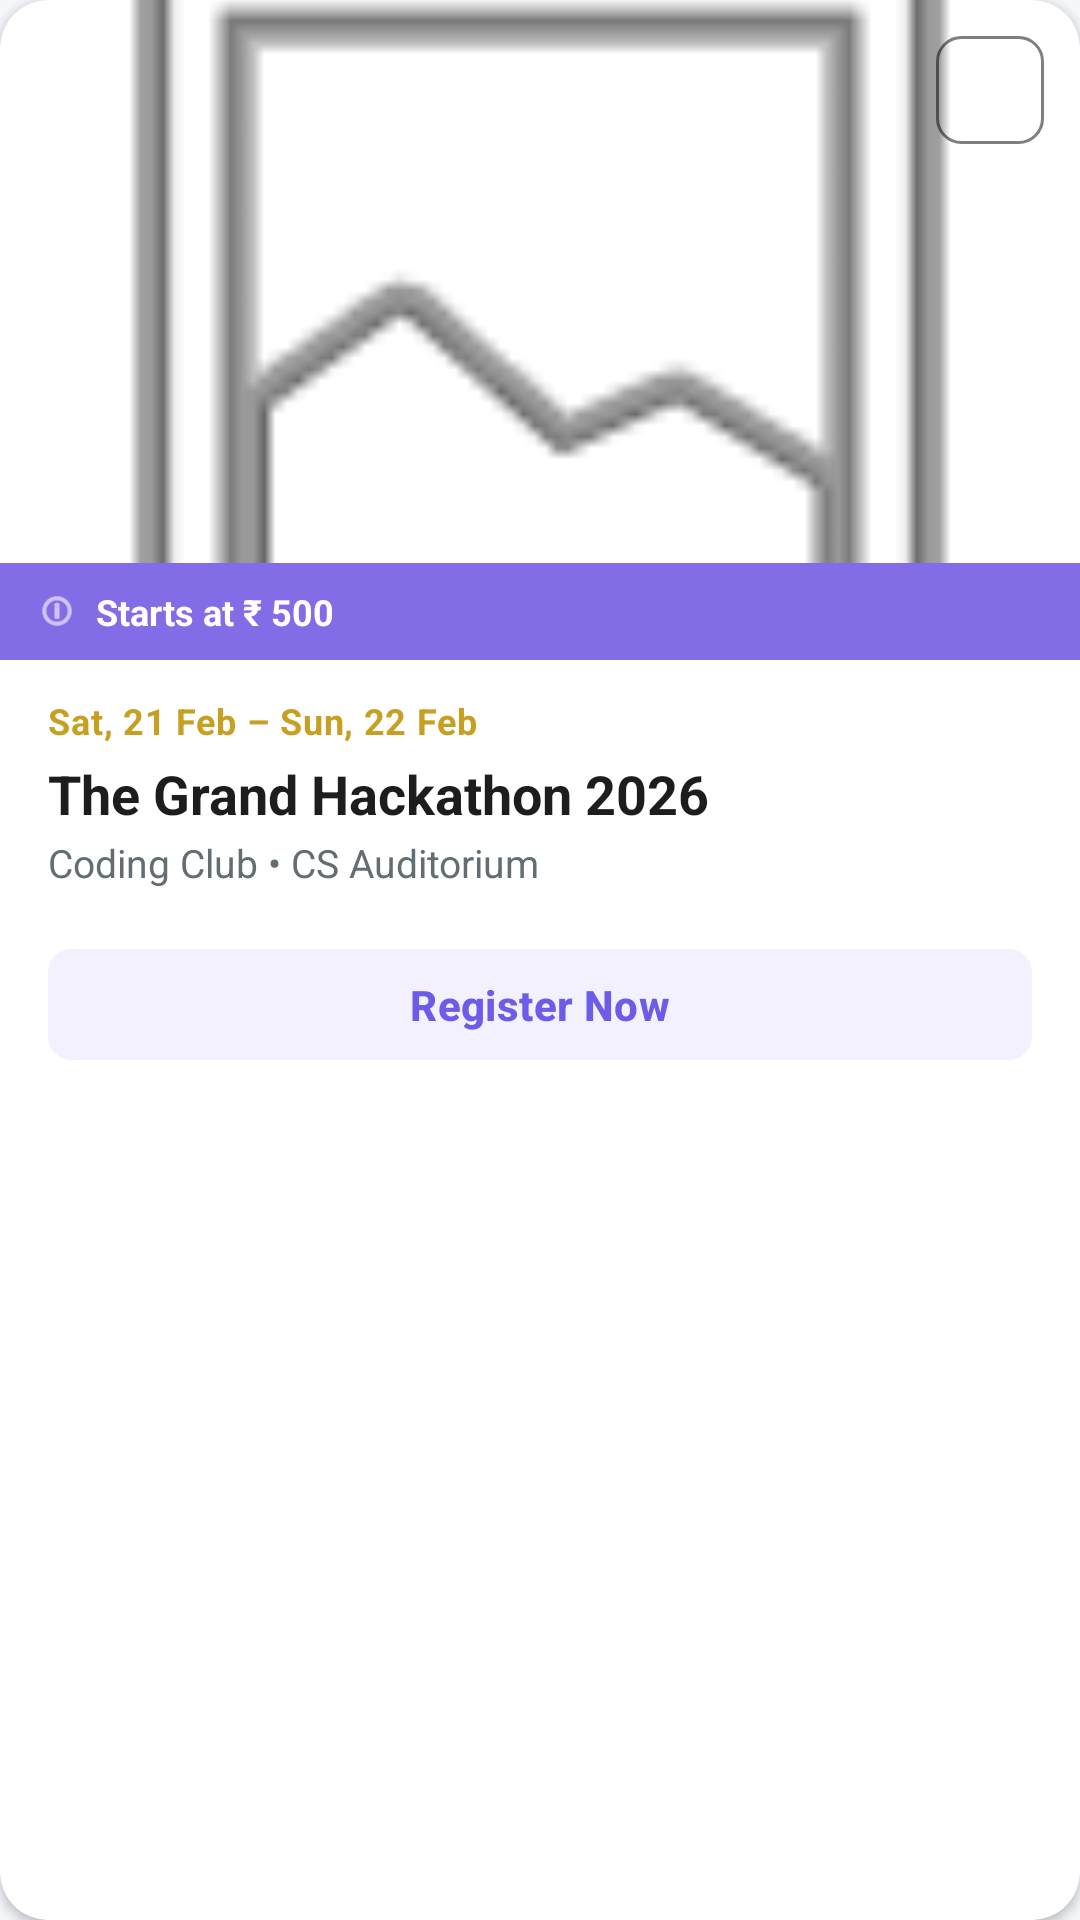

Icon click points for this 1080×1920 phone screenshot, format (x,y):
info details: (57,611)
